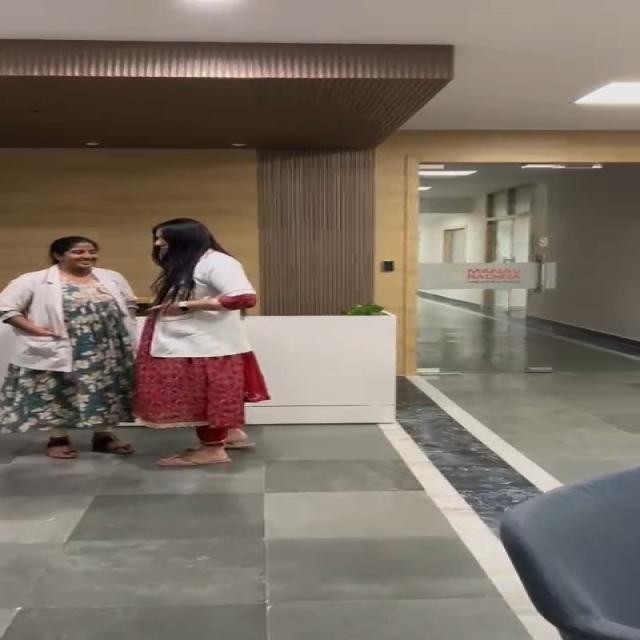door: (374, 114, 640, 384)
floor: (24, 465, 504, 640)
furniture: (515, 463, 640, 640)
moving_object: (0, 206, 269, 468)
wall: (0, 0, 385, 204)
